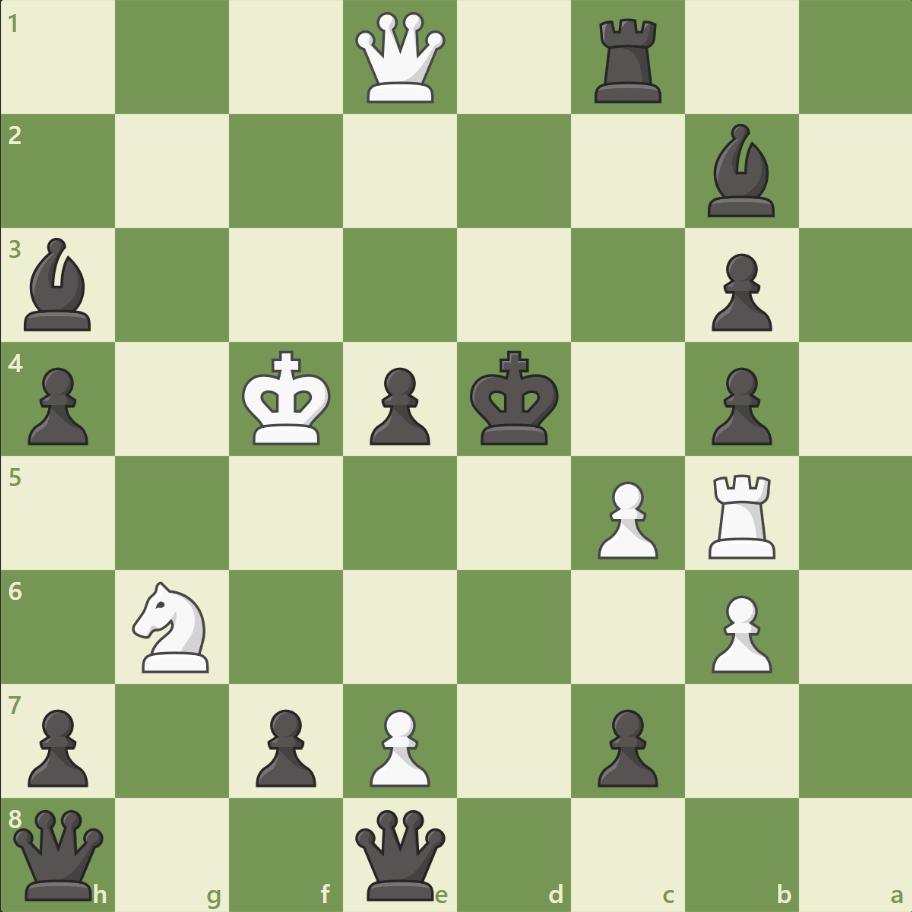K: (238, 344, 338, 452)
N: (124, 575, 222, 677)
P: (701, 586, 776, 677), (361, 700, 435, 791), (588, 473, 662, 564)
Q: (351, 9, 450, 108)
R: (700, 466, 783, 563)
b: (17, 233, 101, 336), (698, 120, 782, 222)
k: (465, 344, 565, 452)
p: (247, 700, 322, 791), (20, 700, 95, 791), (701, 359, 776, 450), (20, 359, 95, 450), (701, 246, 776, 337), (588, 700, 662, 791), (361, 359, 435, 450)
q: (351, 804, 450, 903), (10, 804, 109, 903)
r: (587, 12, 670, 109)
